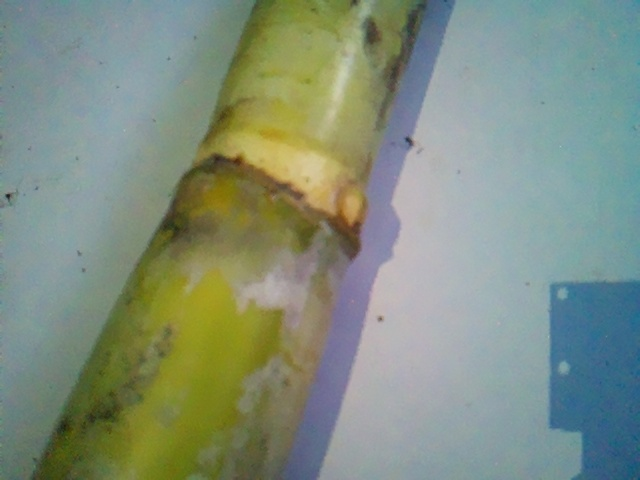Good Sugarcane: (33, 2, 425, 480)
Node: (165, 103, 375, 261)
